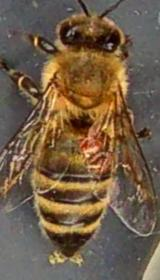varroa_mite: (73, 128, 105, 153)
